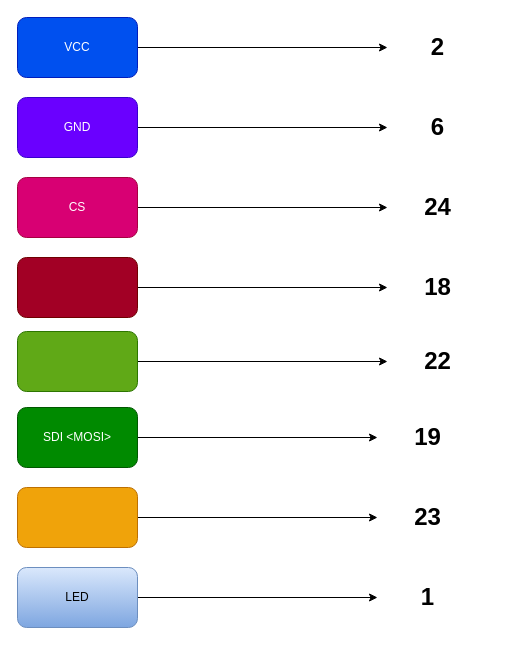
This 505x645 diagram has some shape labels left out. Here are the shapes that lost their labels. From the top down, the centre of each, then its label:
At (77,287): "RESET".
At (77,361): "DC".
At (77,517): "SCK".
